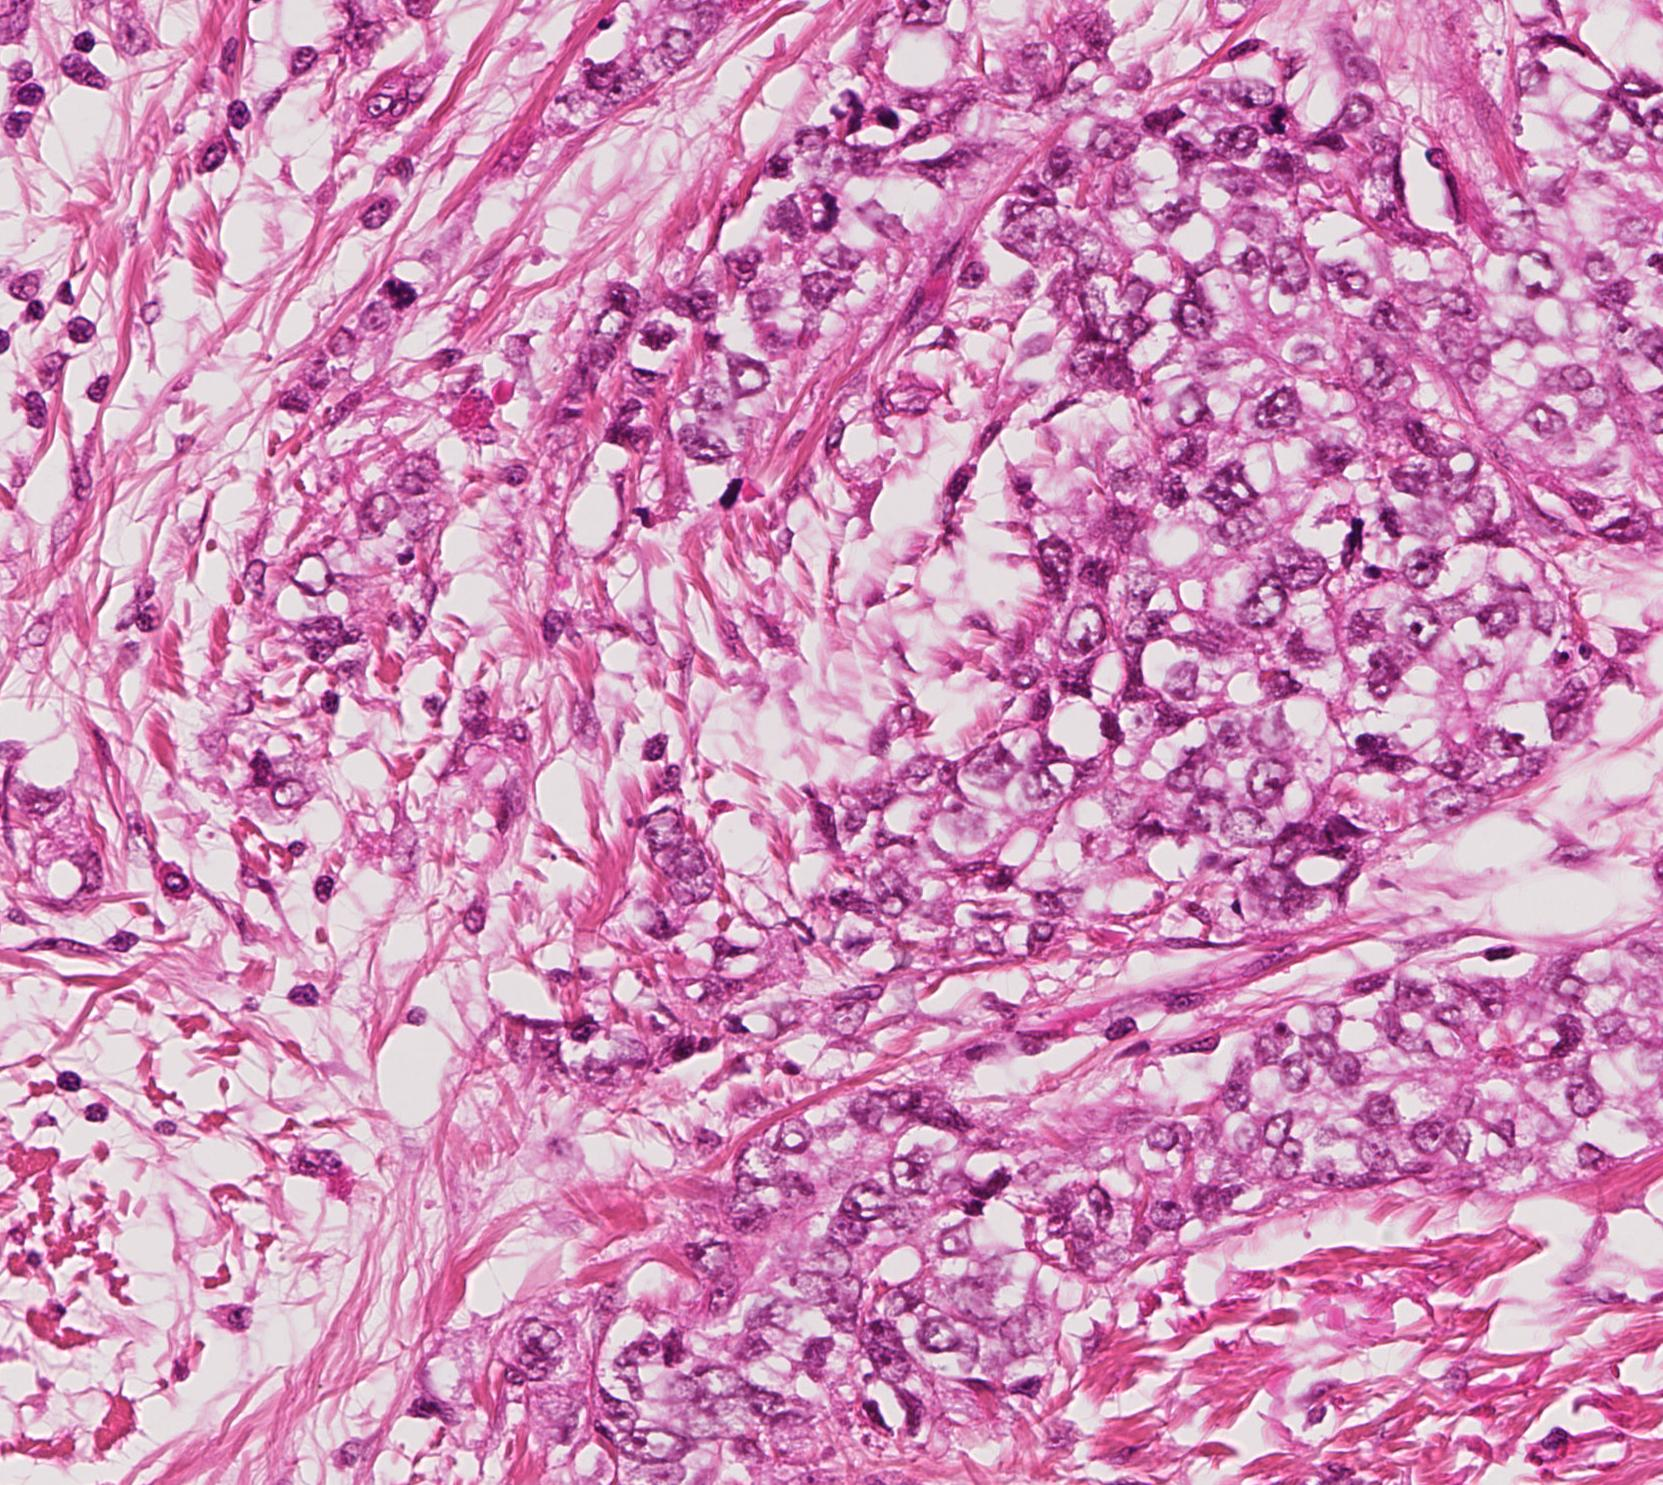mitosis: (371, 261, 432, 321), (1247, 92, 1307, 152)
